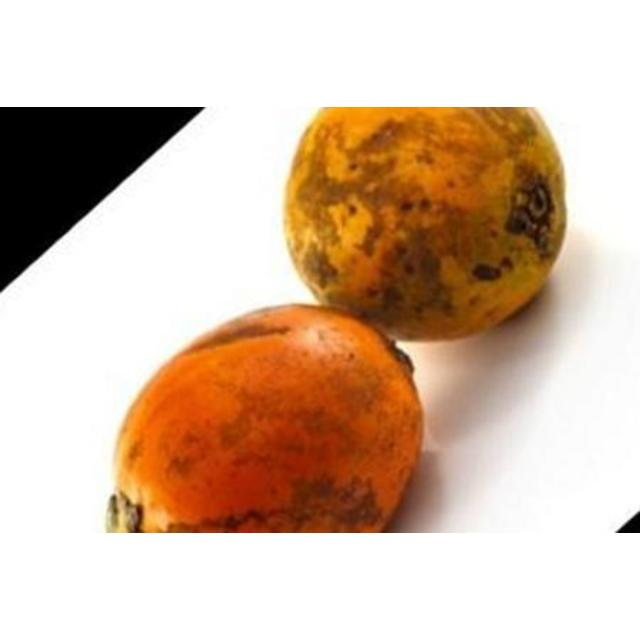good: (105, 305, 425, 532), (282, 107, 566, 343)
